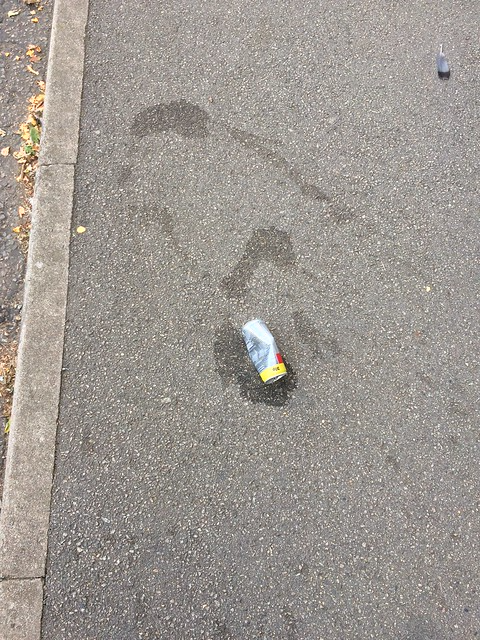can: (234, 313, 294, 397)
